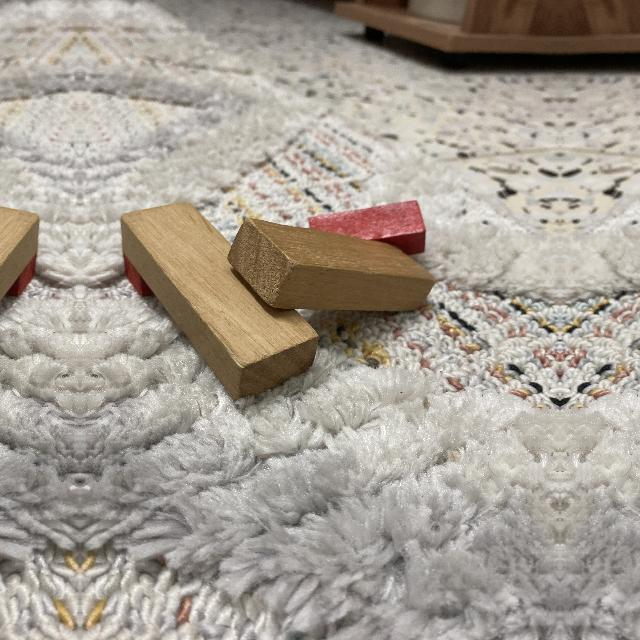jenga: (121, 203, 320, 401), (228, 218, 436, 312)
red block: (308, 200, 426, 257)
red cube: (124, 256, 149, 296), (11, 256, 36, 296)
